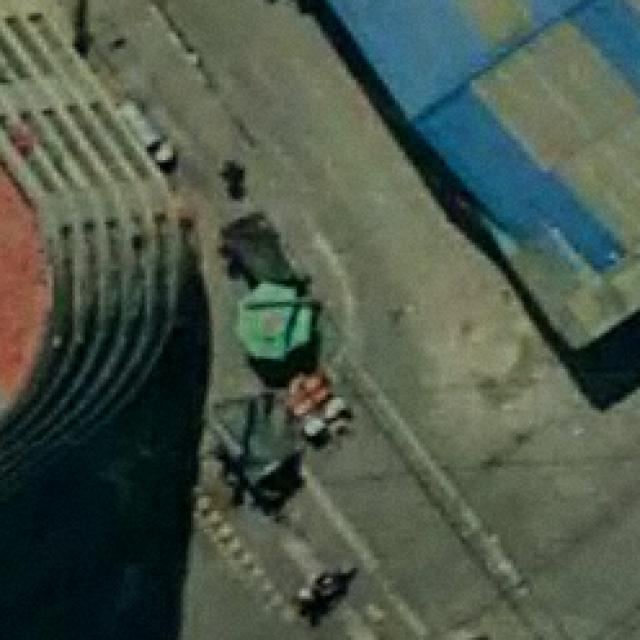vendedor_ambulante: (232, 274, 324, 370)
